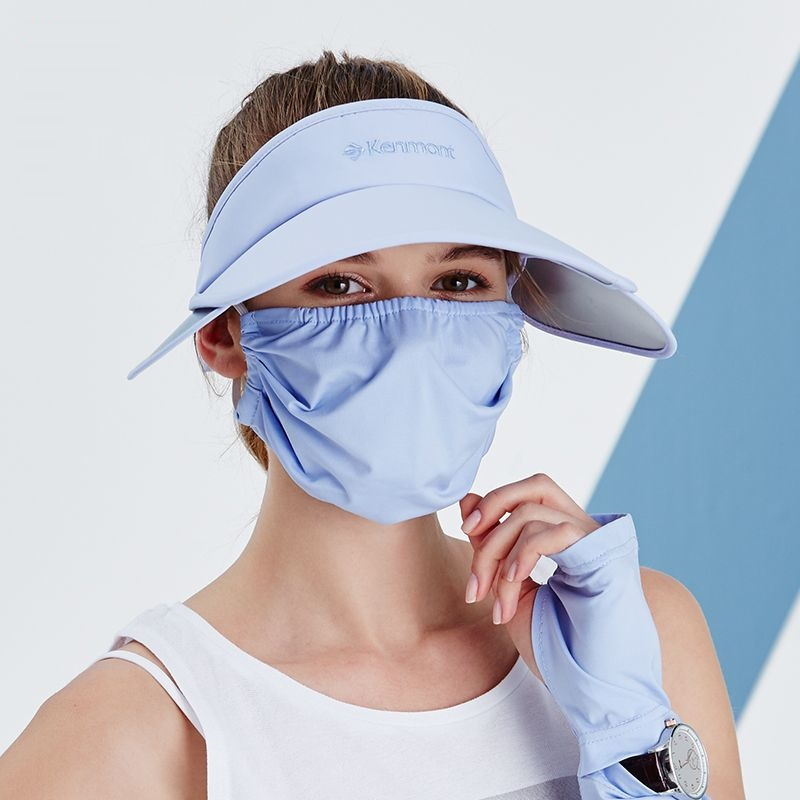face_mask: (247, 169, 517, 524)
